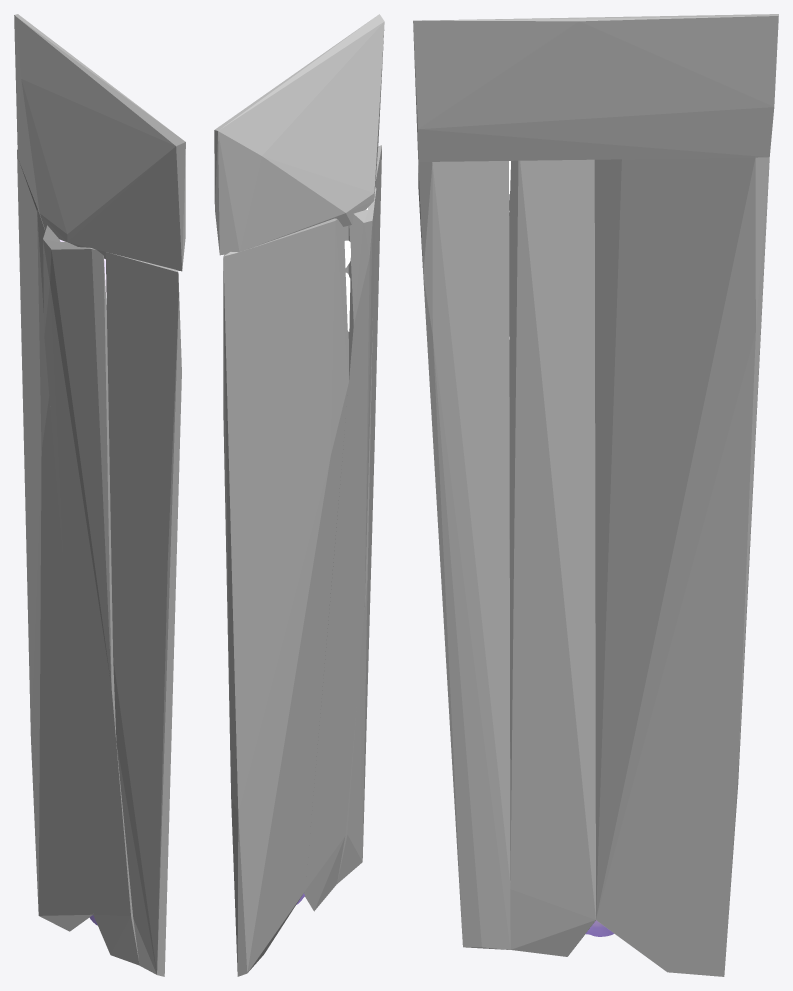
File: SM_Env_Flowers_Line_03.fbx
3 renders of one model, left to right at view 1: azimuth 30°, elevation 25°; view 2: azimuth 150°, elevation 25°; view 3: azimuth 270°, elevation 25°, orthographic. The views are drawn at different scales.
Visible parts, largest first — view 1: SM_Env_Flowers_Line_03_ConvexHulls; view 2: SM_Env_Flowers_Line_03_ConvexHulls, SM_Env_Flowers_Line_03; view 3: SM_Env_Flowers_Line_03_ConvexHulls.
Boxes of the visible parts, box(x1,y1,x2,y2) form: SM_Env_Flowers_Line_03_ConvexHulls: box(14, 14, 185, 976); SM_Env_Flowers_Line_03_ConvexHulls: box(214, 14, 384, 976); SM_Env_Flowers_Line_03: box(296, 208, 367, 904); SM_Env_Flowers_Line_03_ConvexHulls: box(413, 14, 778, 976).
Size of the model in its own units: 7.45 by 33.07 by 95.8.
2 materials, 1 textured.
